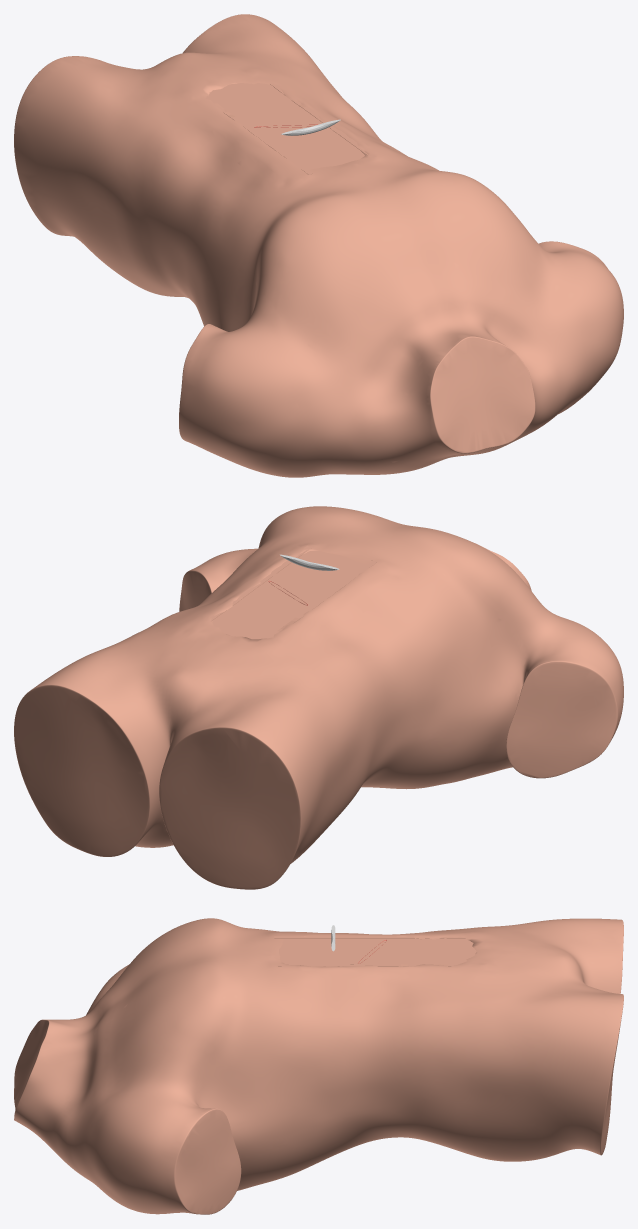
Rendered from herida_1_movimiento.fbx.
3 views of the same model, one above another, from view 1: azimuth 30°, elevation 25°; view 2: azimuth 150°, elevation 25°; view 3: azimuth 270°, elevation 25° (orthographic). The views are drawn at different scales.
Visible parts, largest first — view 1: 11541_maletorso_V1 - copia; view 2: 11541_maletorso_V1 - copia; view 3: 11541_maletorso_V1 - copia.
Boxes of the visible parts, bbox=[...] form: 11541_maletorso_V1 - copia: bbox=[14, 14, 623, 477]; 11541_maletorso_V1 - copia: bbox=[14, 506, 623, 889]; 11541_maletorso_V1 - copia: bbox=[14, 918, 623, 1214].
Bounding box in the file's own units: 5882 × 3196 × 7880.
